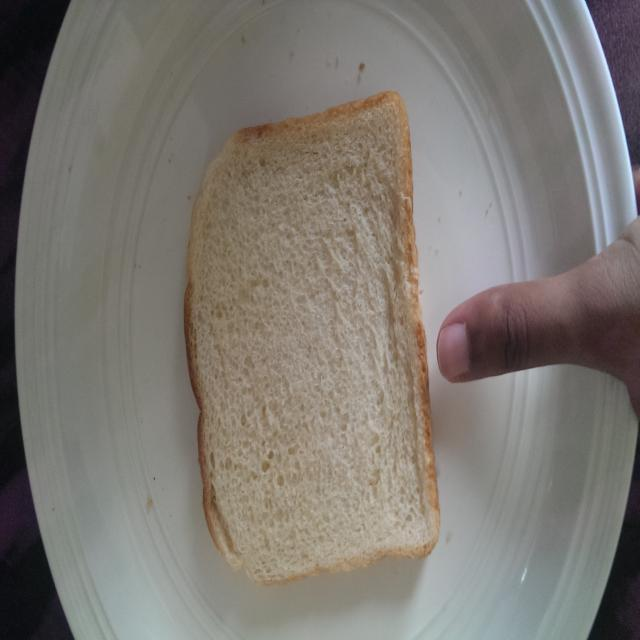Bread: (174, 85, 444, 593)
Finger: (432, 274, 575, 394)
